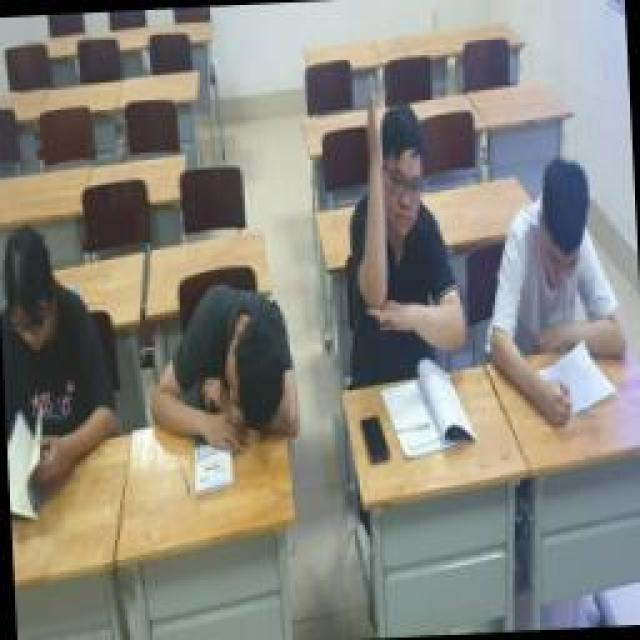sleep: (140, 282, 298, 452)
study: (330, 70, 475, 458), (480, 155, 630, 430), (0, 215, 118, 530)
